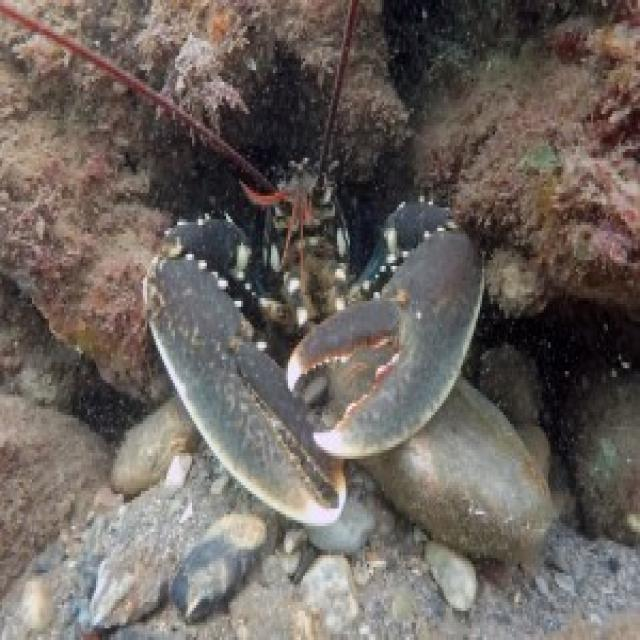lobsters: (97, 0, 551, 544)
